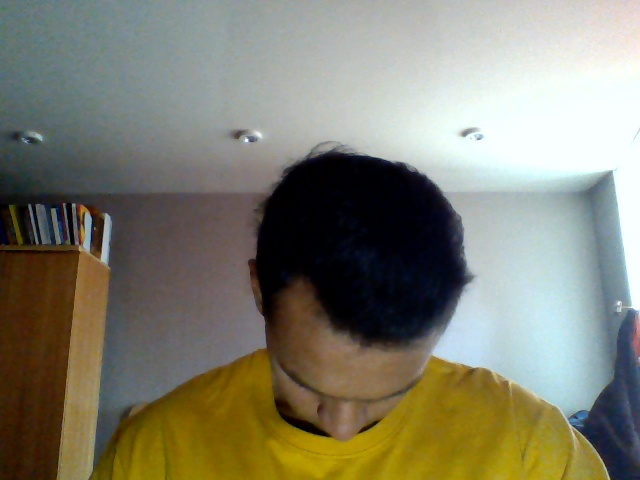no_mask: (282, 397, 394, 444)
